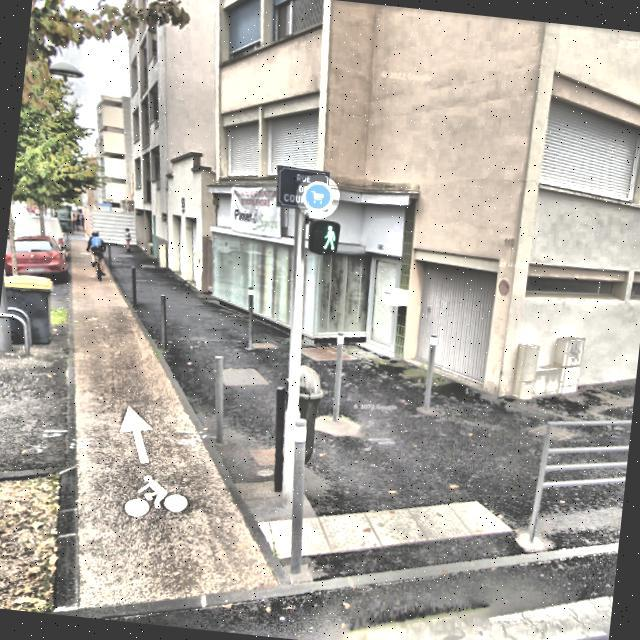green_light: (318, 220, 339, 252)
